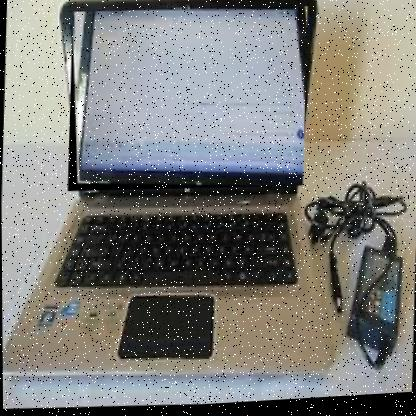Normal: (65, 2, 308, 201)
